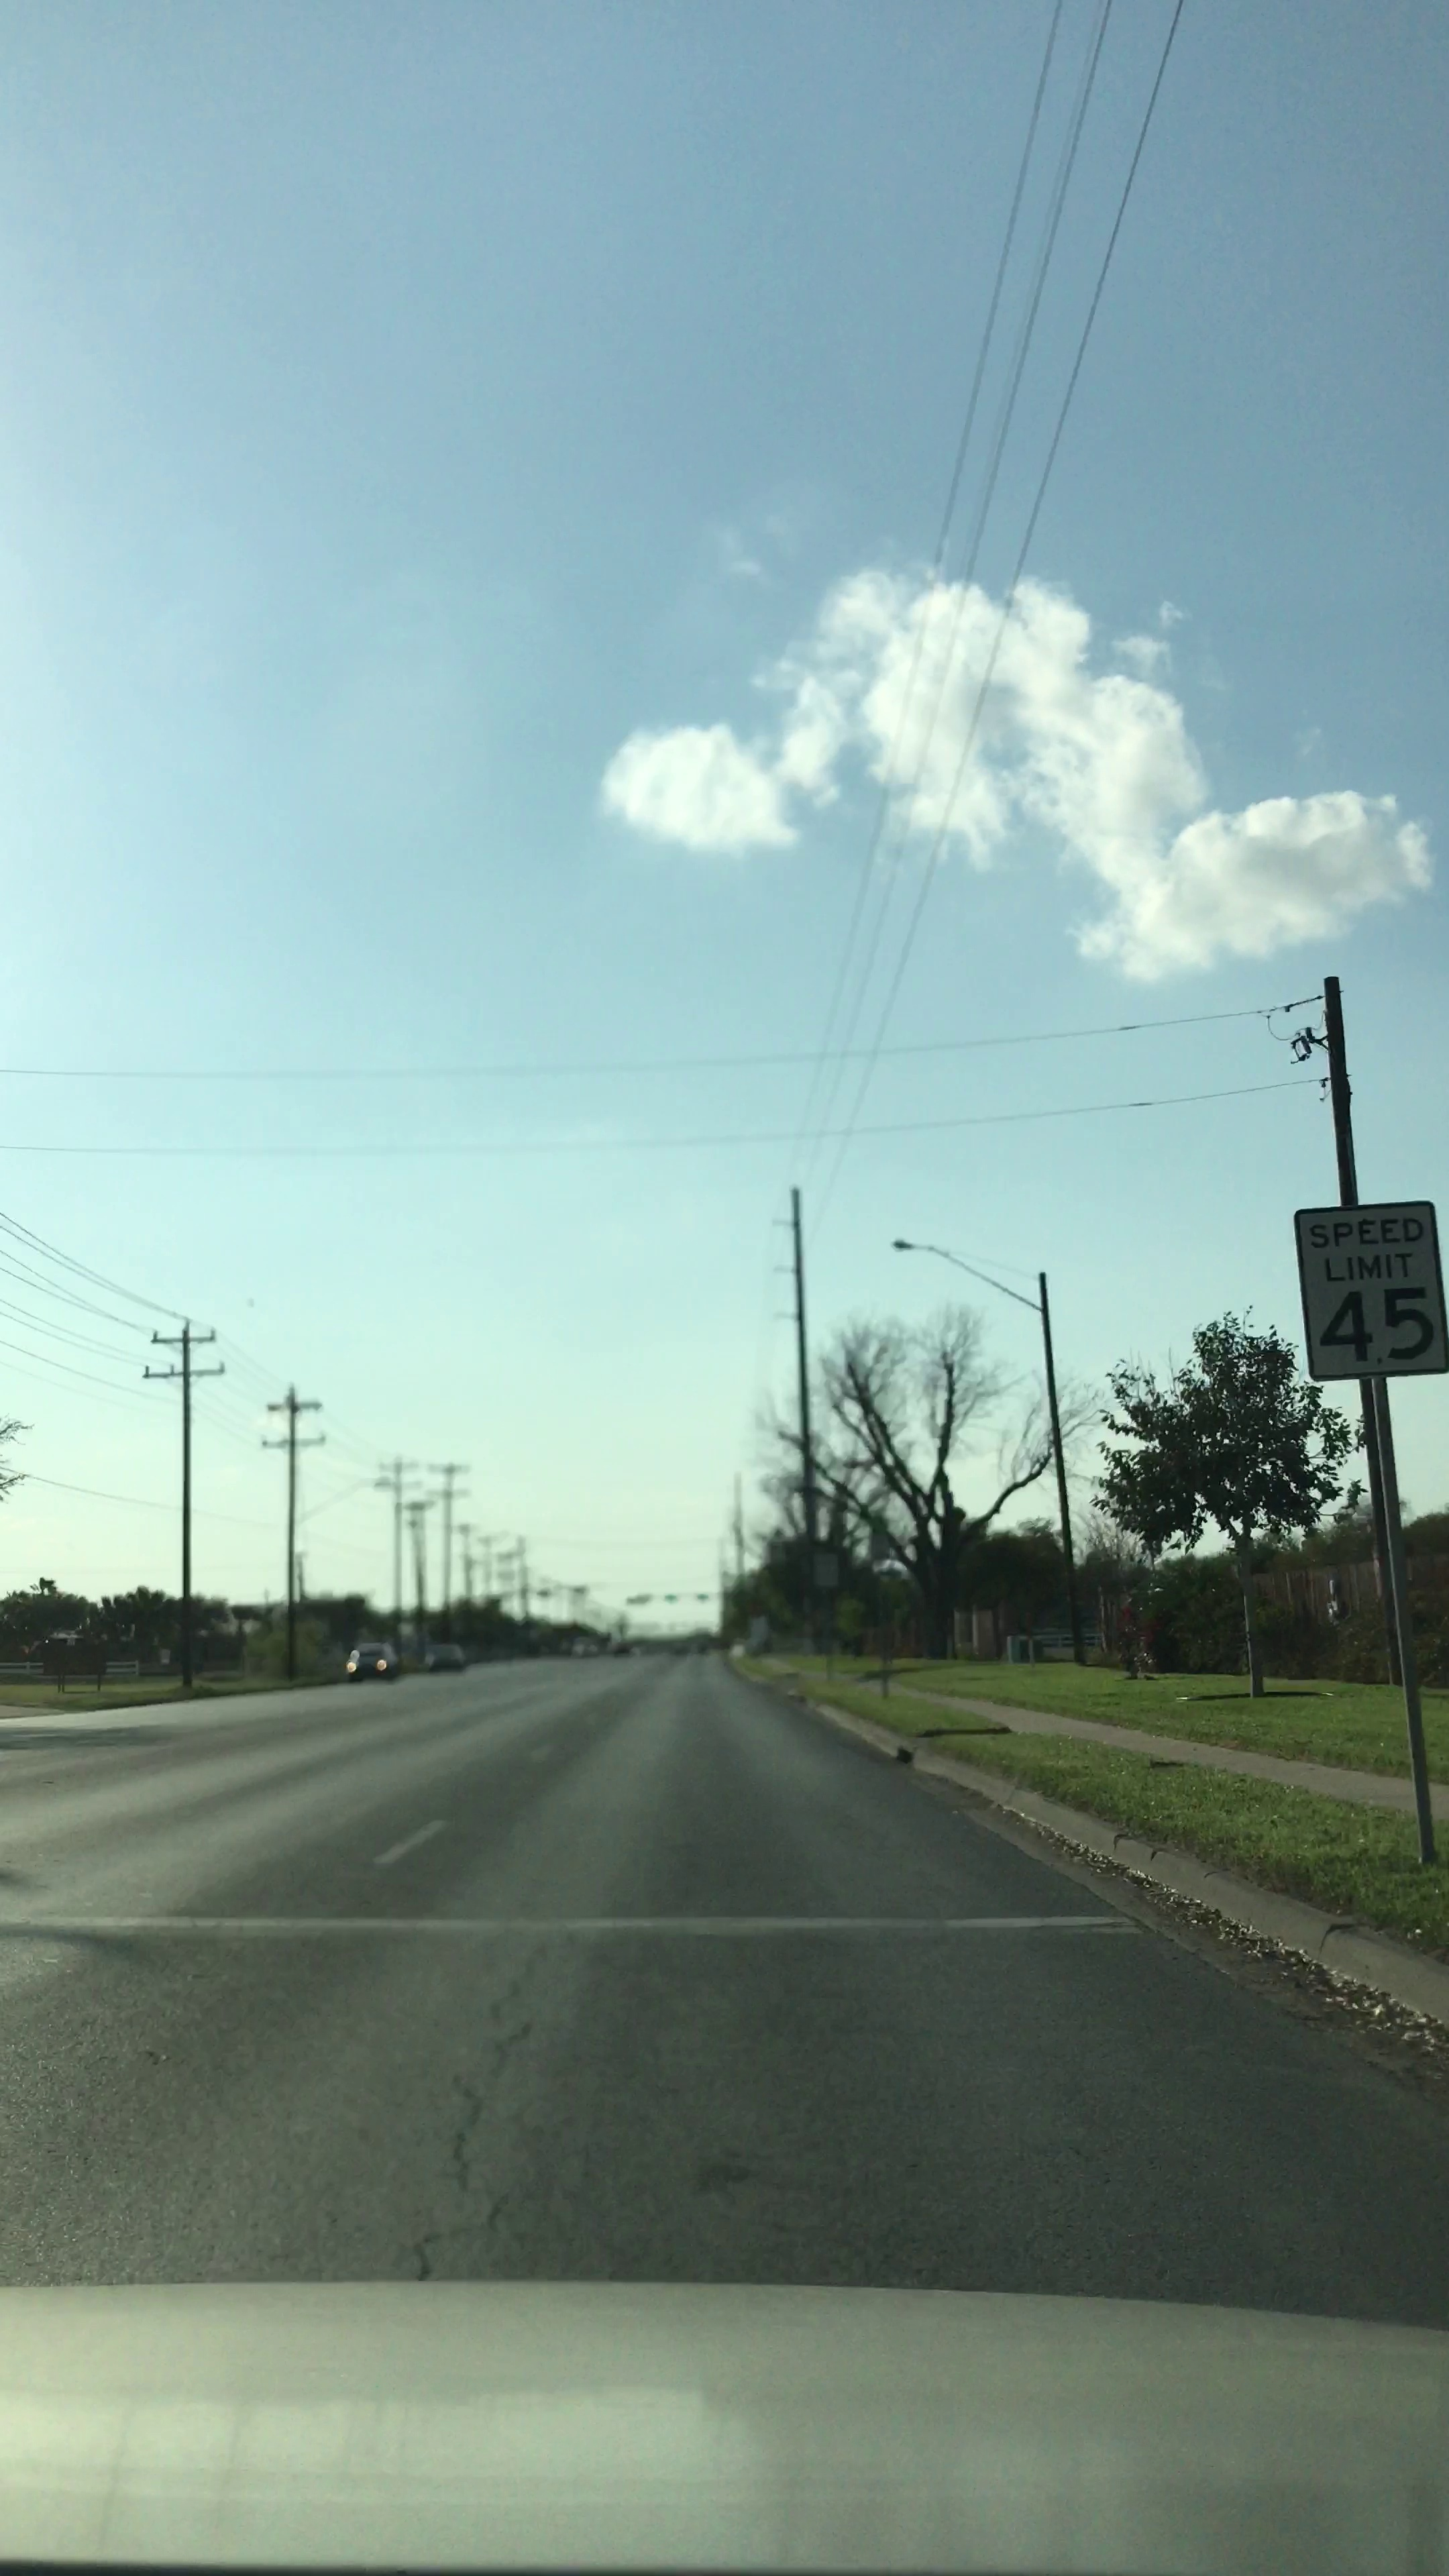crack: (375, 1918, 580, 2307)
